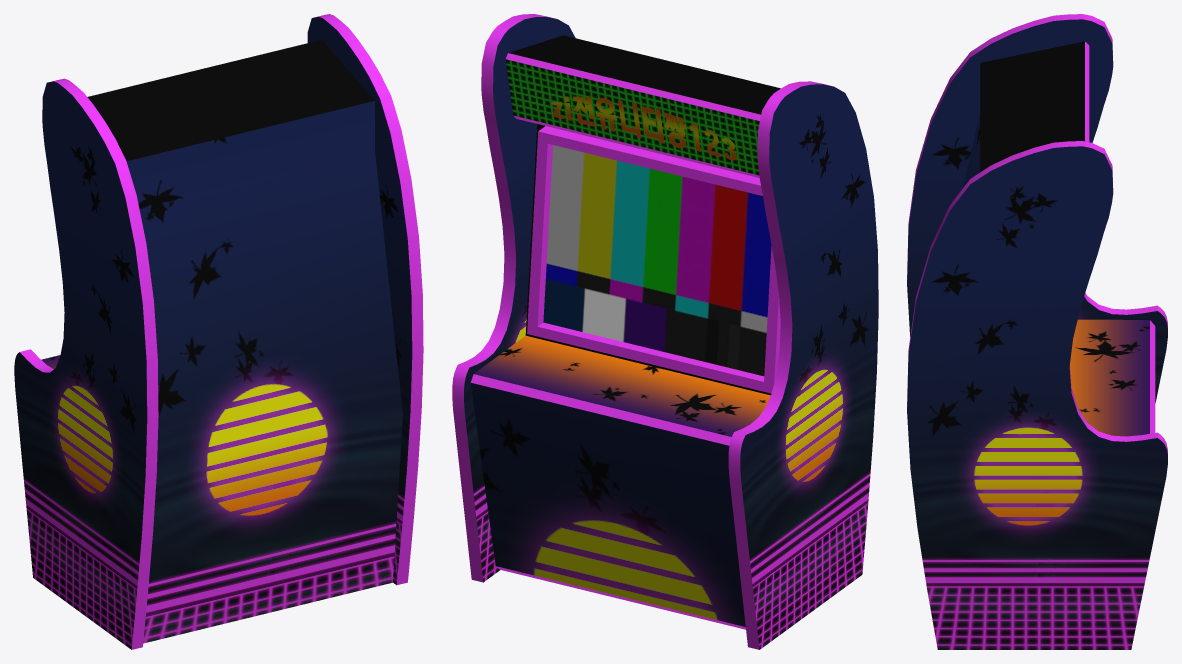
File: gamemachine.FBX
3 renders of one model, left to right at view 1: azimuth 30°, elevation 25°; view 2: azimuth 150°, elevation 25°; view 3: azimuth 270°, elevation 25°, orthographic. The views are drawn at different scales.
Visible parts, largest first — view 1: Box001, Line001, Line002; view 2: Box001, Line001, Line002; view 3: Line002, Box001, Line001.
Boxes of the visible parts, x1,y1,x2,y2 form: Box001: [41, 40, 402, 643]; Line001: [14, 78, 158, 649]; Line002: [307, 14, 423, 585]; Box001: [470, 35, 780, 629]; Line001: [728, 81, 878, 649]; Line002: [452, 14, 575, 582]; Line002: [907, 141, 1167, 649]; Box001: [963, 41, 1155, 436]; Line001: [907, 14, 1167, 403].
Bounding box in the file's own units: 40.58 × 72.03 × 33.81.
Materials: 1 (1 with a texture image).
